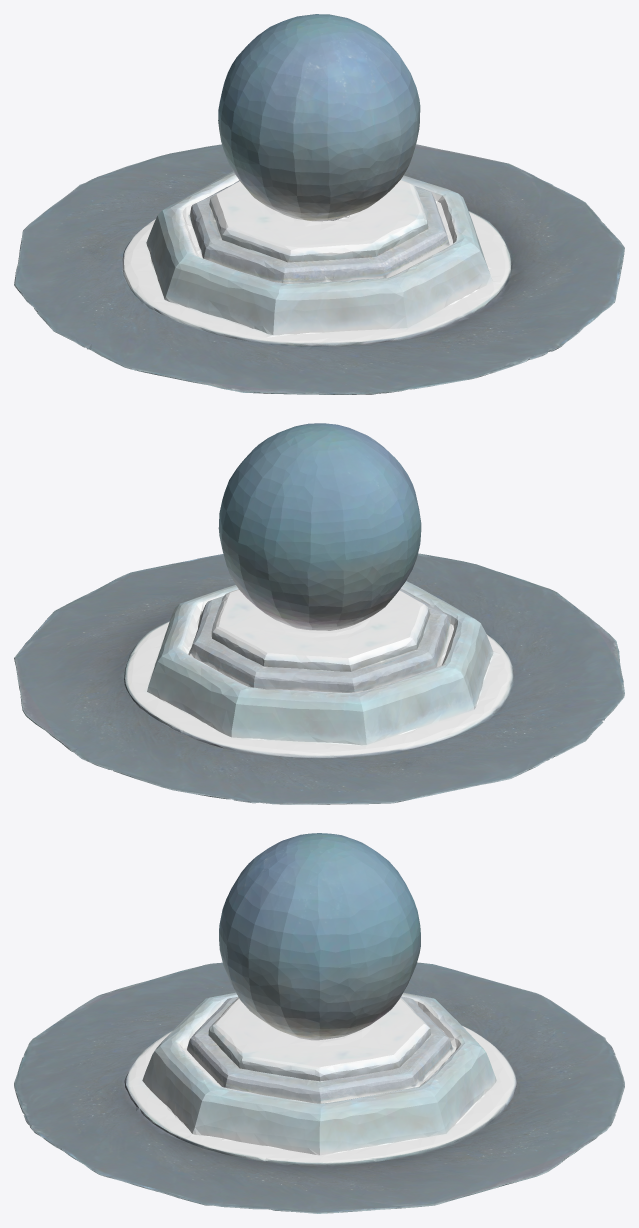
The model's file is Pérola da Criação.fbx.
3 views of the same model, one above another, from view 1: azimuth 30°, elevation 25°; view 2: azimuth 150°, elevation 25°; view 3: azimuth 270°, elevation 25° (orthographic).
Parts seen in each view (by area): view 1: temp; view 2: temp; view 3: temp.
Boxes of the visible parts, <box> form: temp: <box>14,14,624,394</box>; temp: <box>14,423,624,804</box>; temp: <box>14,833,624,1213</box>.
Size of the model in its own units: 200 by 88.18 by 200.
1 material, 1 textured.
